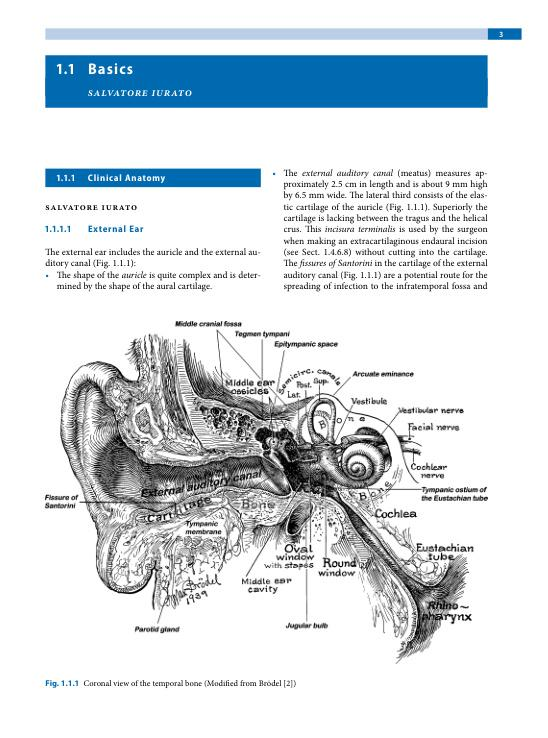caption: (43, 678, 298, 690)
chapter-heading: (87, 61, 135, 76)
image: (30, 302, 504, 673)
list: (271, 167, 489, 293), (44, 270, 262, 292)
section-heading: (86, 173, 166, 185)
sub-section-heading: (87, 223, 145, 233)
text: (43, 246, 262, 269)
